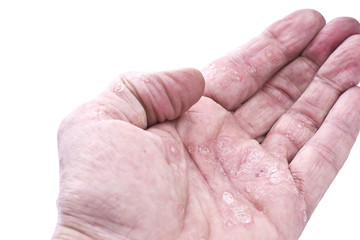Diseased: (116, 67, 296, 228)
